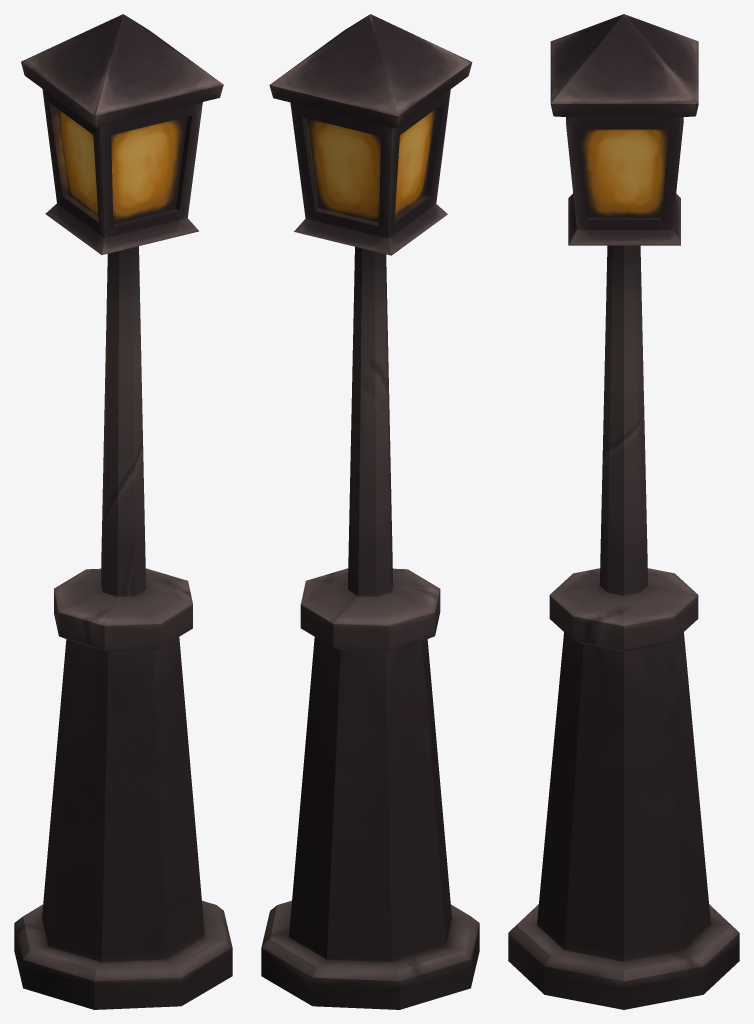
Rendered from lamp_4.fbx.
3 renders of one model, left to right at view 1: azimuth 30°, elevation 25°; view 2: azimuth 150°, elevation 25°; view 3: azimuth 270°, elevation 25°, orthographic.
Parts seen in each view (by area): view 1: lamp_4; view 2: lamp_4; view 3: lamp_4.
Boxes of the visible parts, <box> form: lamp_4: <box>14,14,232,1009</box>; lamp_4: <box>261,14,479,1009</box>; lamp_4: <box>508,14,739,1009</box>.
Bounding box in the file's own units: 0.6697 × 3.03 × 0.6697.
